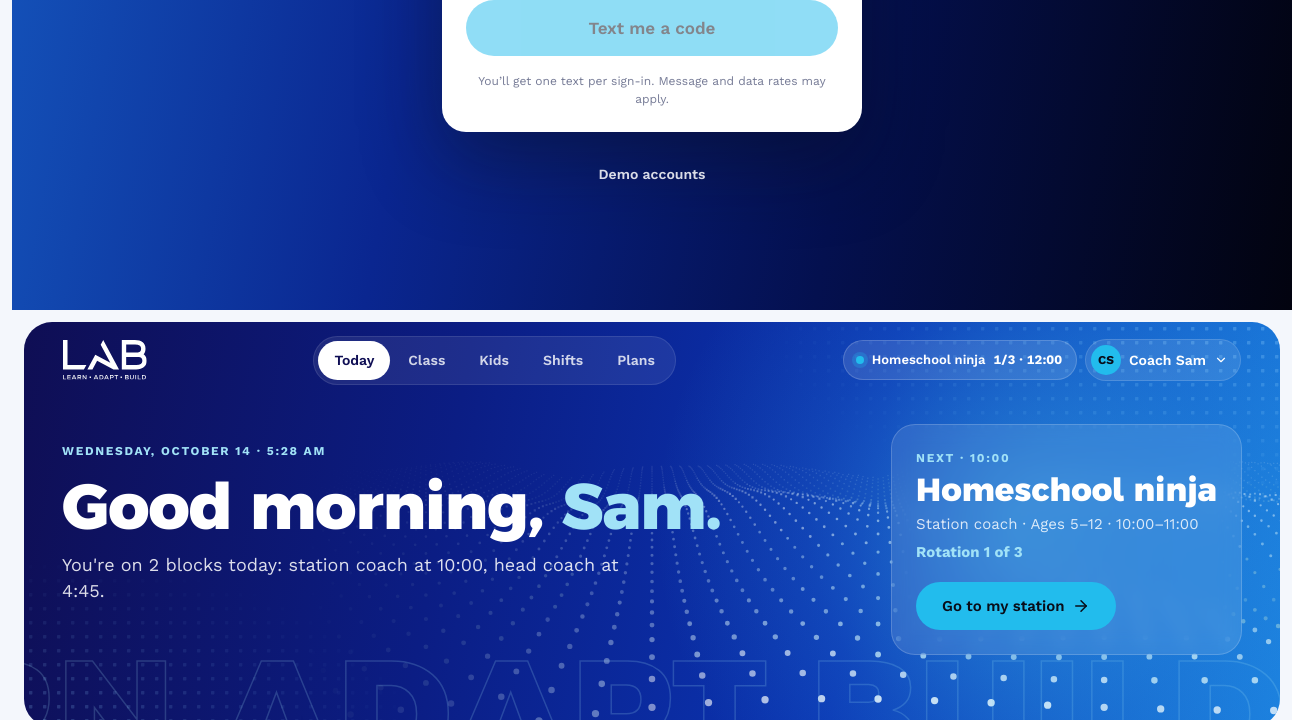
Test case: coach floor › station coach sees the group at their station once the class starts
(page scrolled)
Click the button "Homeschool ninja 1/3 · 12:00" at (960, 360), box top-left (843, 340), bottom-right (1077, 380)
(page scrolled)
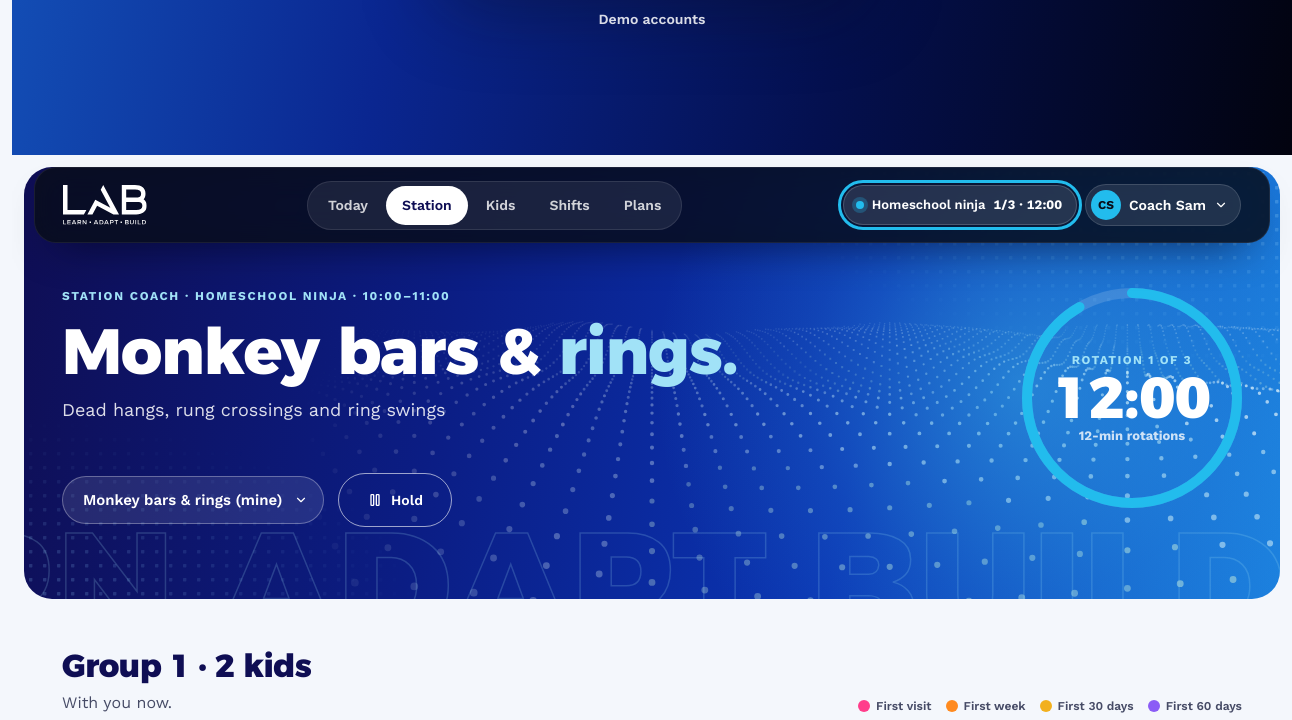
Expected: the text "Rotation 1 of 3" is shown, top-left (1072, 354), bottom-right (1192, 366)
Expected: the heading "Monkey bars & rings." is shown, top-left (62, 319), bottom-right (738, 383)
Expected: the heading "Group 1 · 2 kids" is shown, top-left (62, 649), bottom-right (312, 683)
